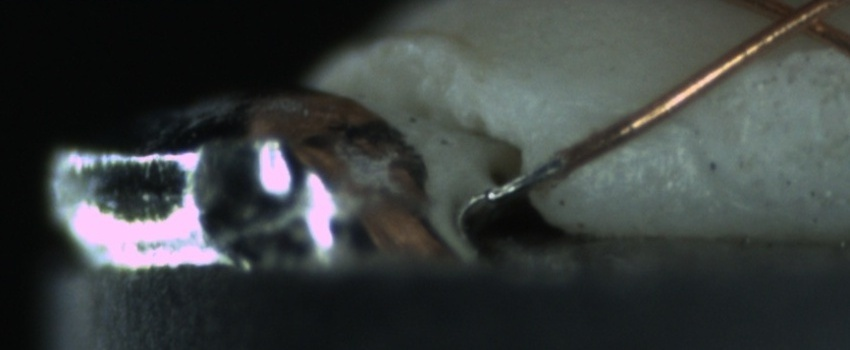CL: (752, 0, 840, 45)
TS: (473, 157, 566, 206)
TTCW: (472, 137, 610, 206)
